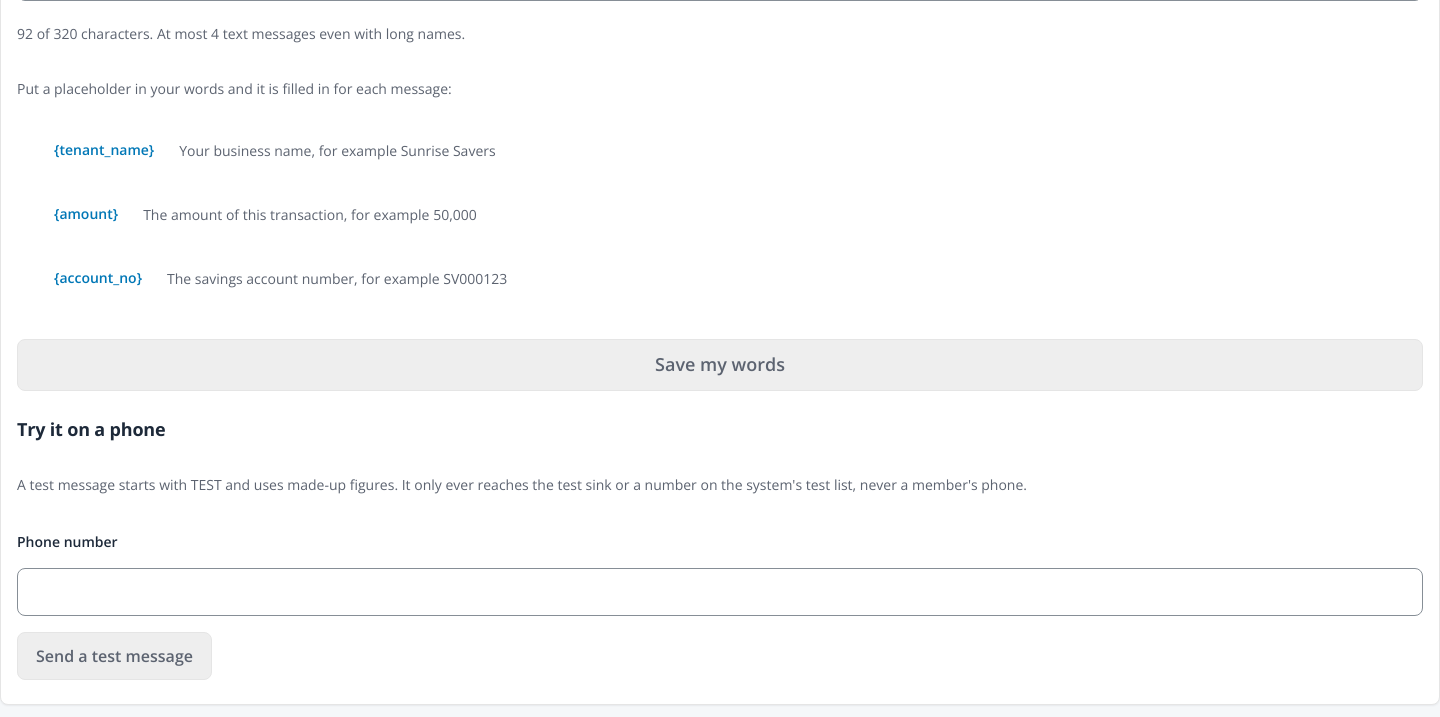
Test case: the wording › shows the test result in words and sends only what was asked
(page scrolled)
In the field labelled "Phone number": (720, 592) [17,568,1423,616], type "0700000611"
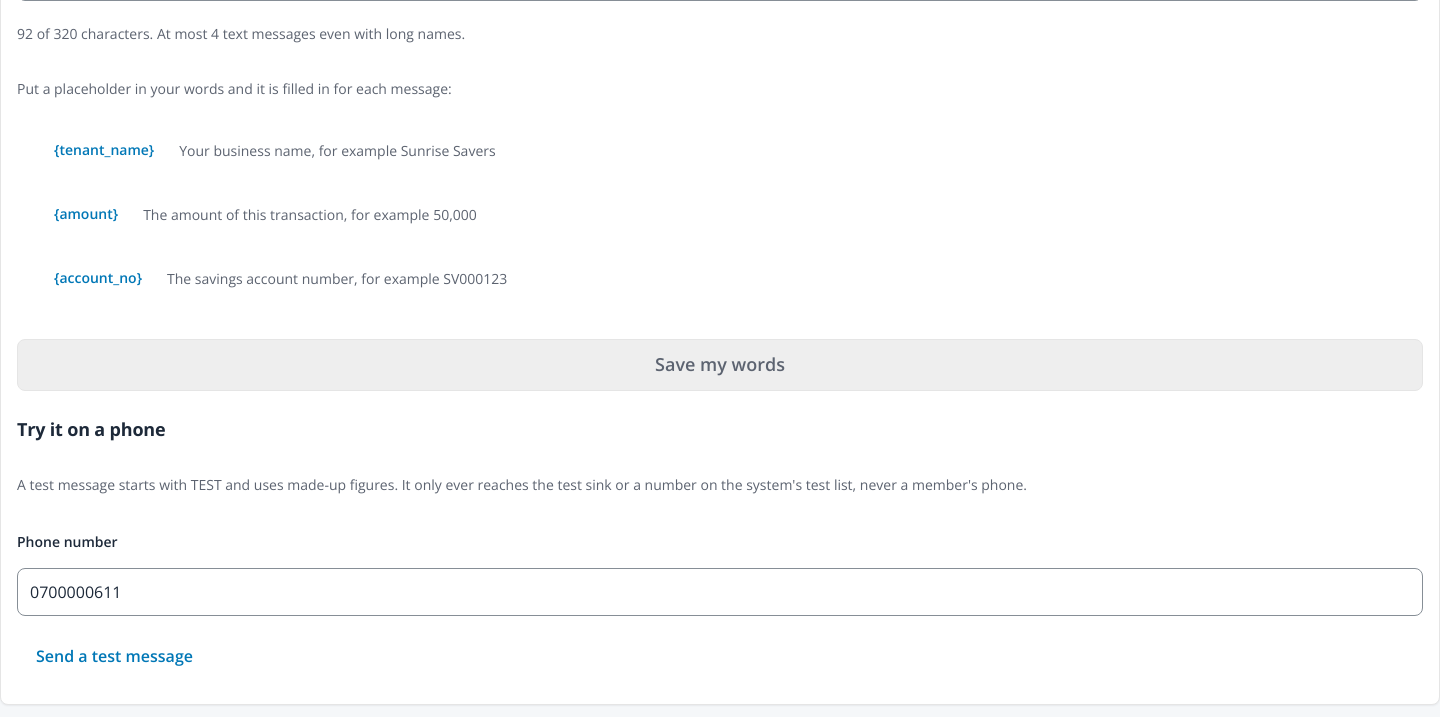
Click the button "Send a test message": (114, 656) [17,632,212,680]
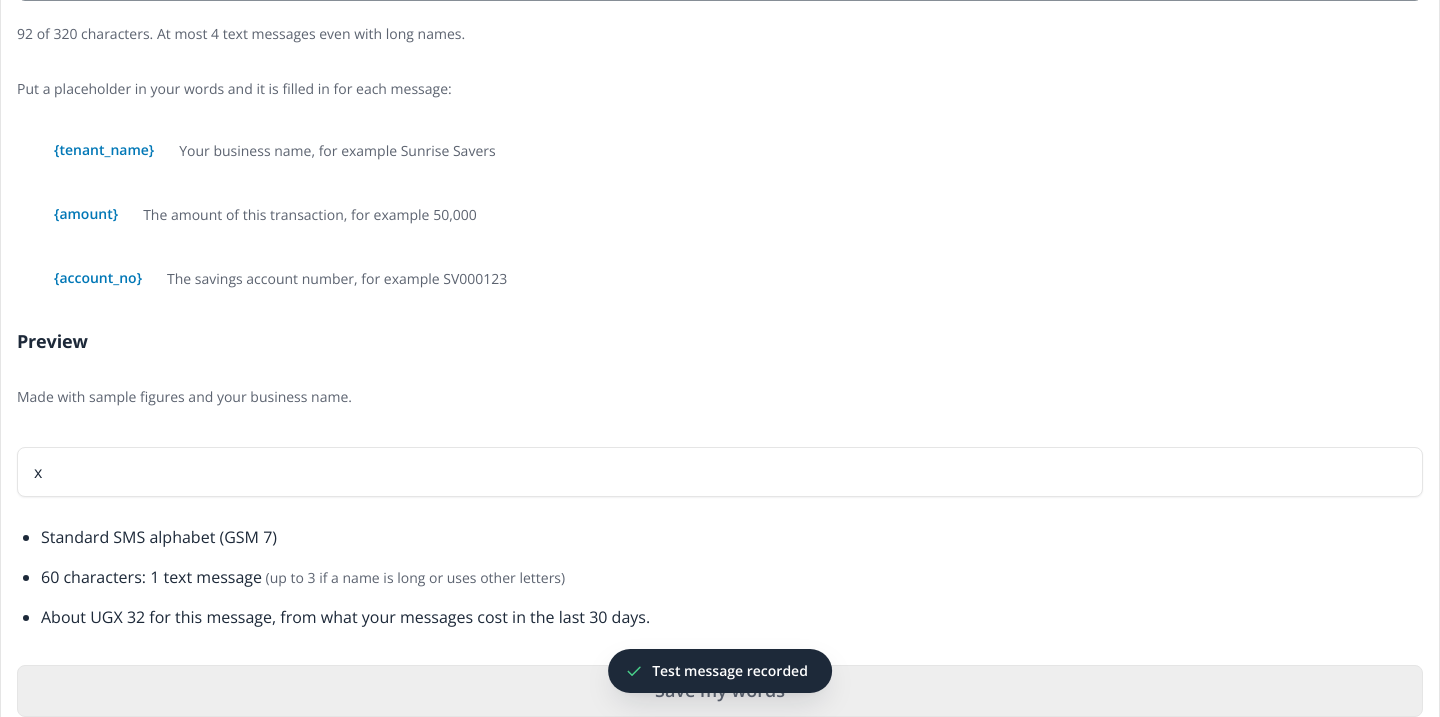
Now the text "Test message recorded" is shown, box [652,661,808,681]
